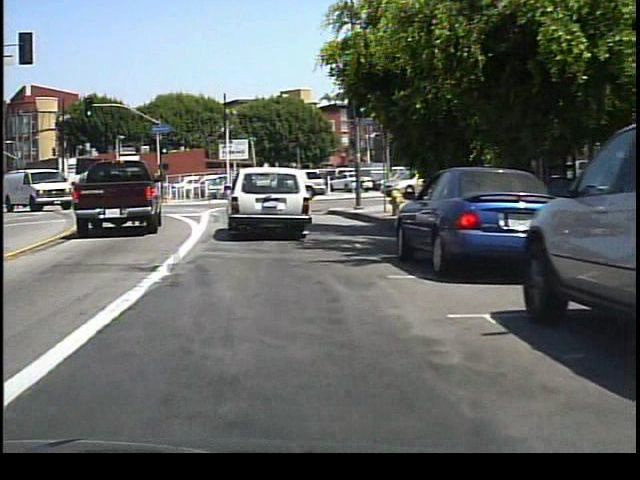person: (351, 167, 367, 200)
